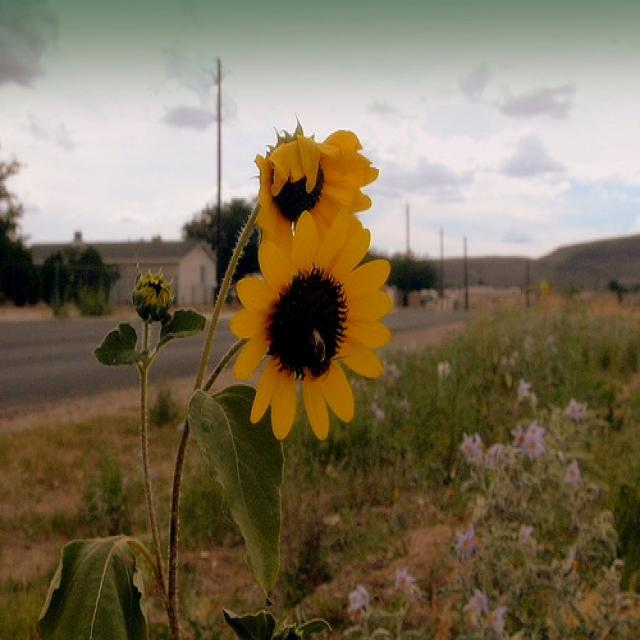sunflower: (226, 205, 396, 444), (252, 129, 384, 245)
